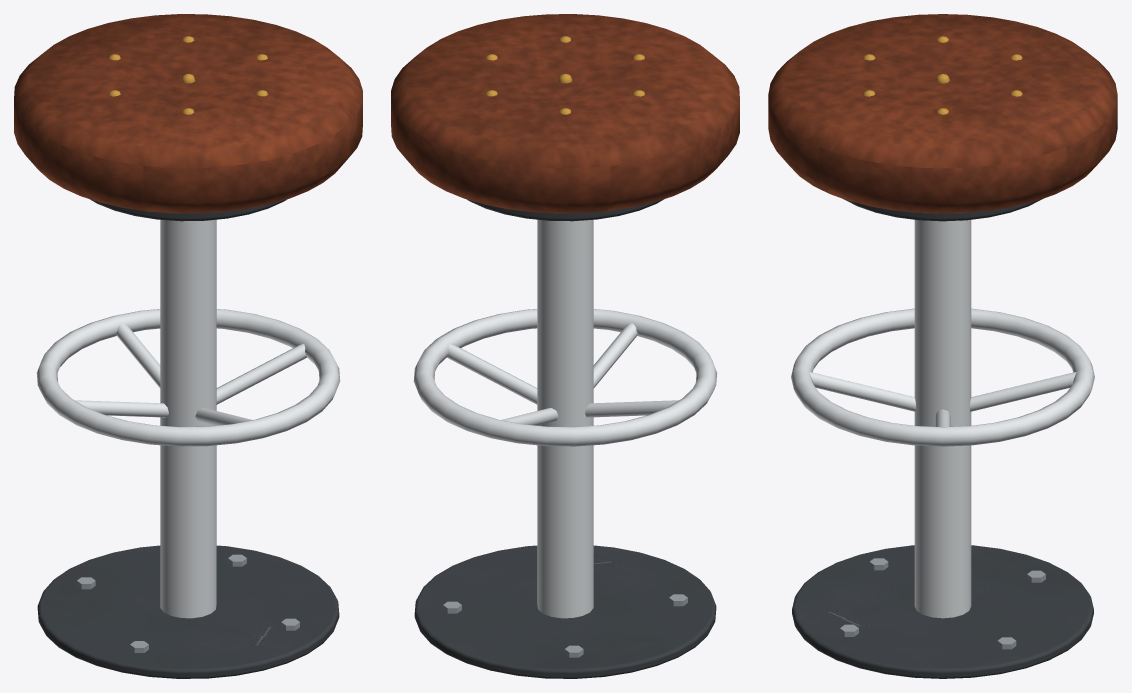
The model's file is Stool.glb.
3 views of the same model, side by side, from view 1: azimuth 30°, elevation 25°; view 2: azimuth 150°, elevation 25°; view 3: azimuth 270°, elevation 25° (orthographic).
Visible parts, largest first — view 1: Stool_Body; view 2: Stool_Body; view 3: Stool_Body.
Part boxes in pixels (left/top/right/bottom): Stool_Body: left=14, top=14, right=362, bottom=678; Stool_Body: left=391, top=14, right=739, bottom=678; Stool_Body: left=768, top=14, right=1117, bottom=678.
Size of the model in its own units: 0.37 by 0.636 by 0.37.
5 materials, 2 textured.
